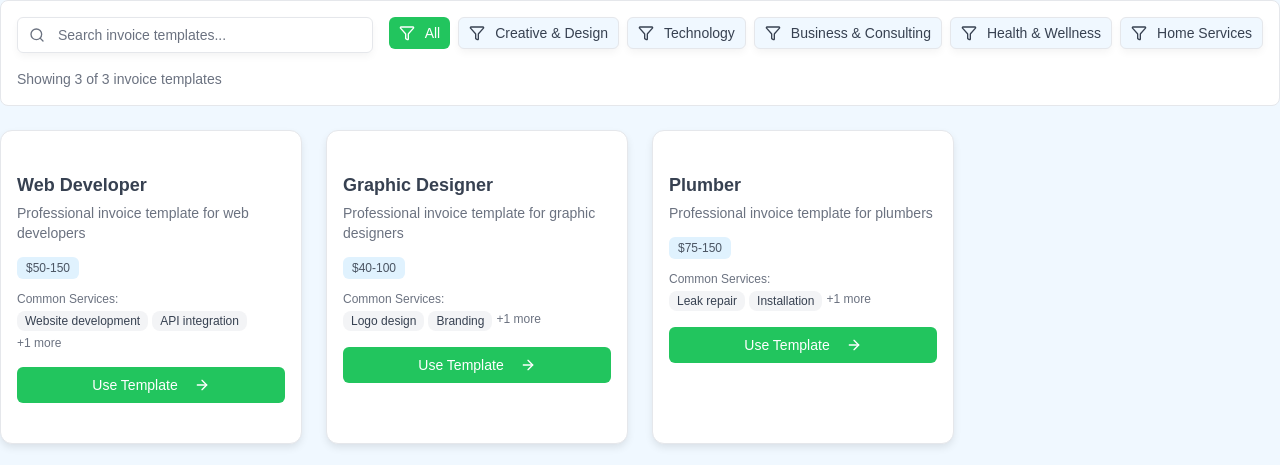
Test: TemplateGrid › Category Filtering › should filter by Home Services category
Click the button "Home Services" at point(1192, 33), box 1120,17 -> 1263,49
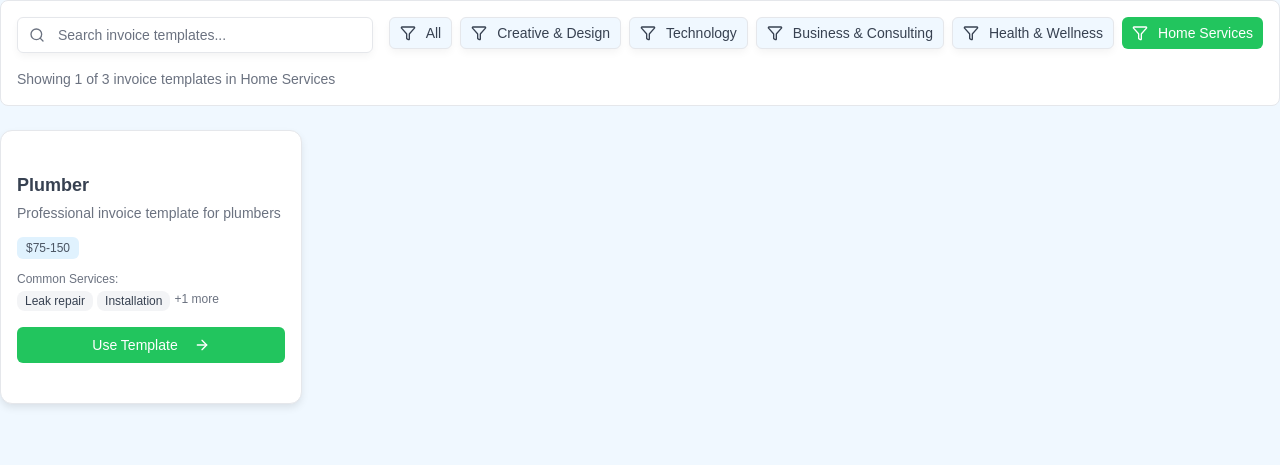
Expected: the heading "Plumber" is shown, 17,175 -> 89,195
Expected: the heading "Web Developer" is gone
Expected: the heading "Graphic Designer" is gone
